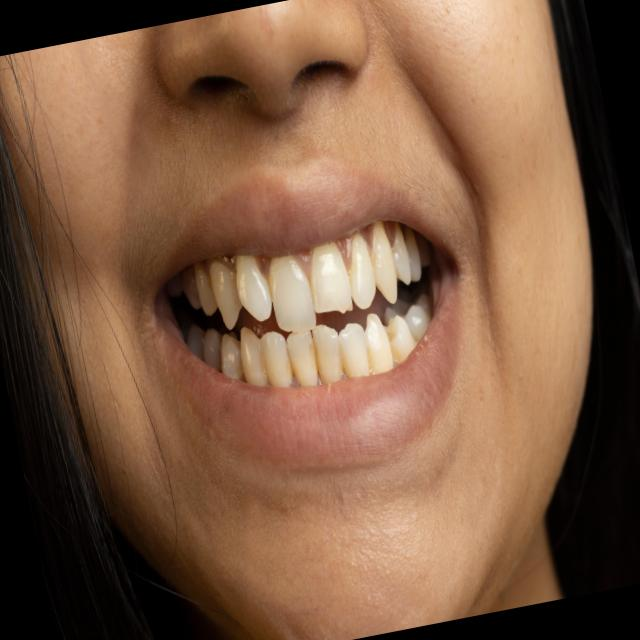Tooth: (268, 255, 316, 332), (309, 242, 353, 313), (236, 255, 272, 321), (209, 263, 243, 330), (384, 294, 432, 341), (371, 220, 397, 303), (348, 234, 376, 309), (312, 324, 343, 384), (261, 331, 293, 387), (364, 313, 393, 374), (338, 323, 370, 378), (287, 330, 318, 386), (241, 327, 269, 386), (383, 315, 417, 363), (391, 222, 411, 285), (195, 262, 218, 316), (221, 332, 243, 380), (405, 225, 422, 281), (203, 329, 223, 371)
